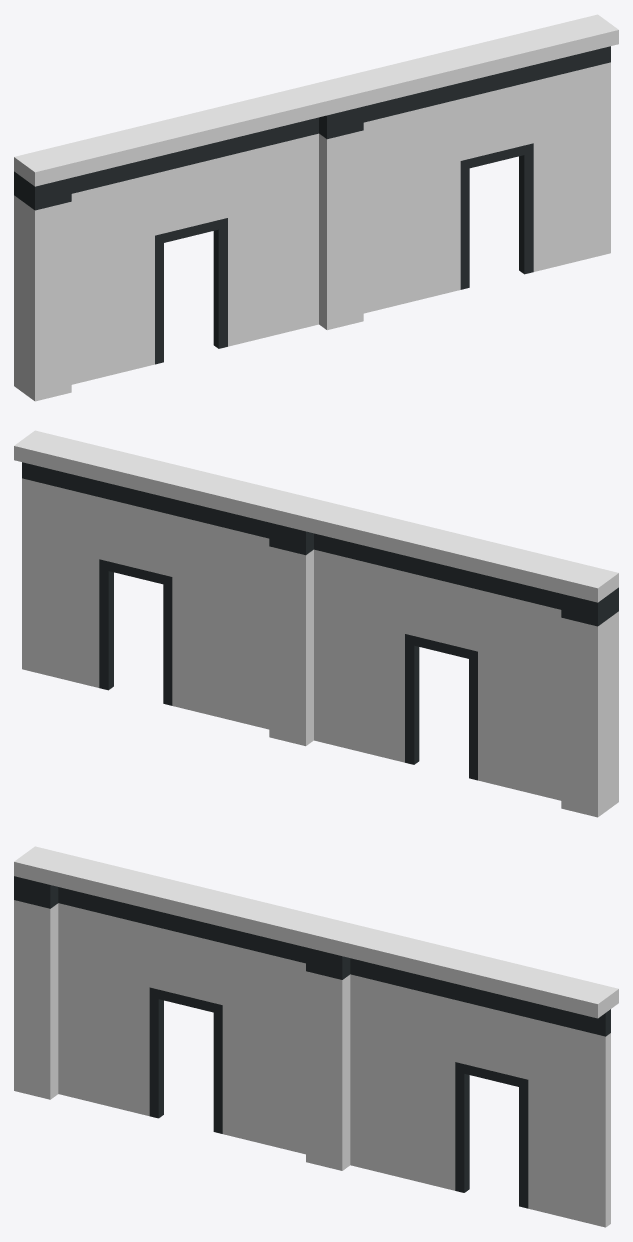
Rendered from penghubung_toilet_corridor.obj.
The picture shows the model from 3 angles, top to bottom: view 1: azimuth 30°, elevation 25°; view 2: azimuth 150°, elevation 25°; view 3: azimuth 330°, elevation 25°; orthographic projection.
Size of the model in its own units: 12.8 by 4.8 by 0.8.
Materials: 1 (1 with a texture image).
